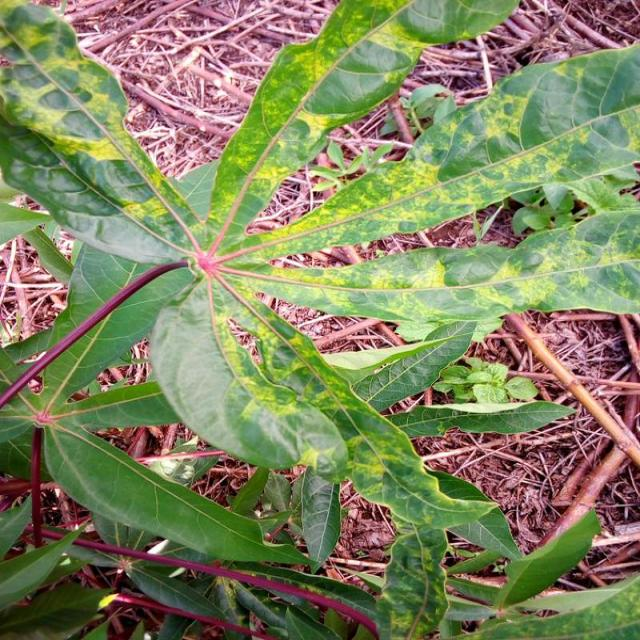cassava leaf: (1, 1, 638, 635)
